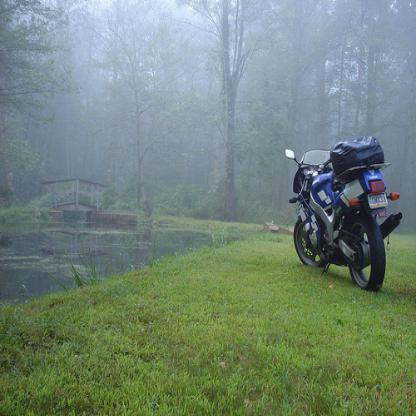motorbike: (285, 135, 403, 293)
